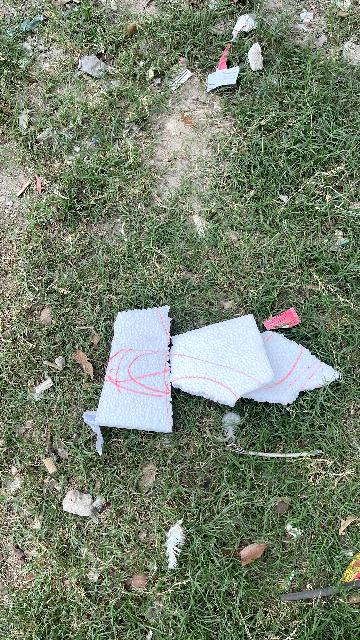cocksheet: (91, 283, 347, 454)
